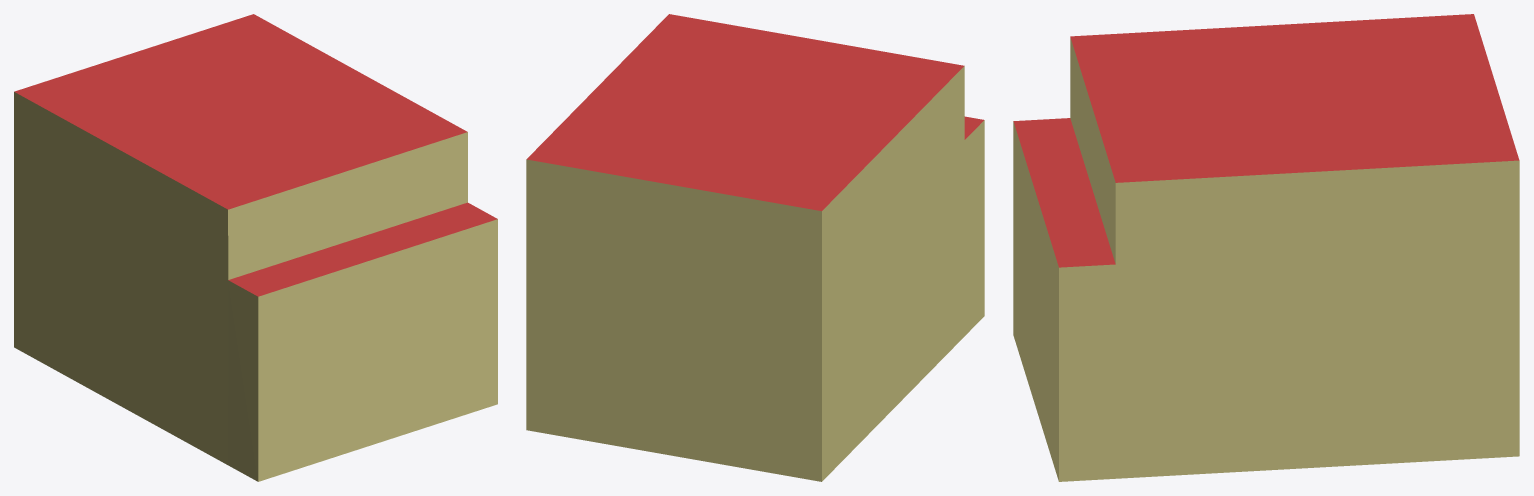
The picture shows the model from 3 angles, left to right: view 1: azimuth 30°, elevation 25°; view 2: azimuth 150°, elevation 25°; view 3: azimuth 270°, elevation 25°; orthographic projection. The views are drawn at different scales.
Size of the model in its own units: 11.21 by 13.94 by 8.99.
